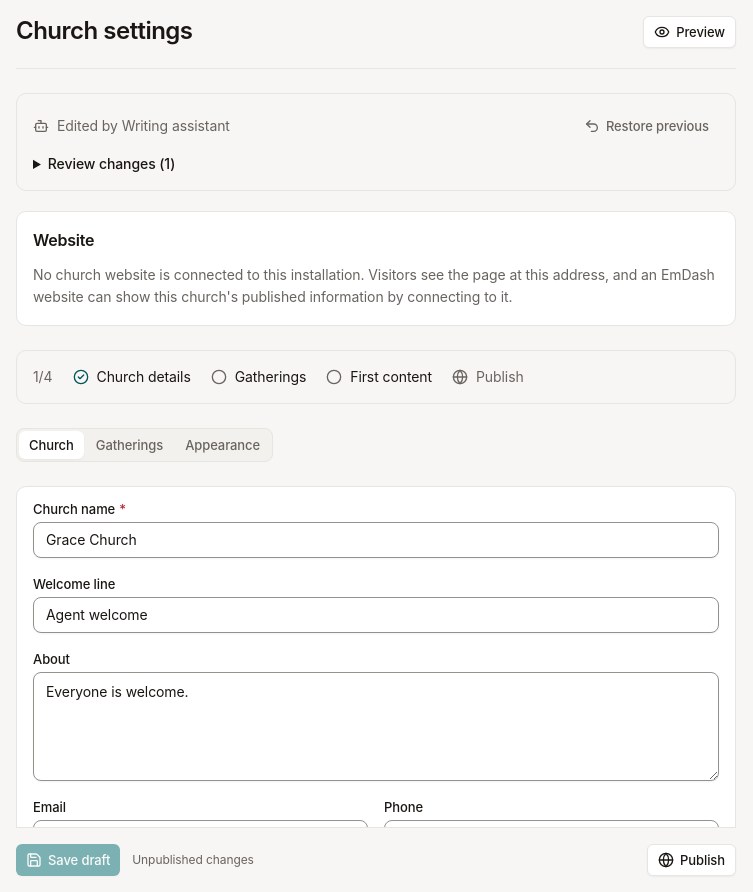
Test: shows agent attribution and reviewed fields and restores only the observed saved version
Click the button "Restore previous".
click(646, 126)  # box [574,110,719,142]
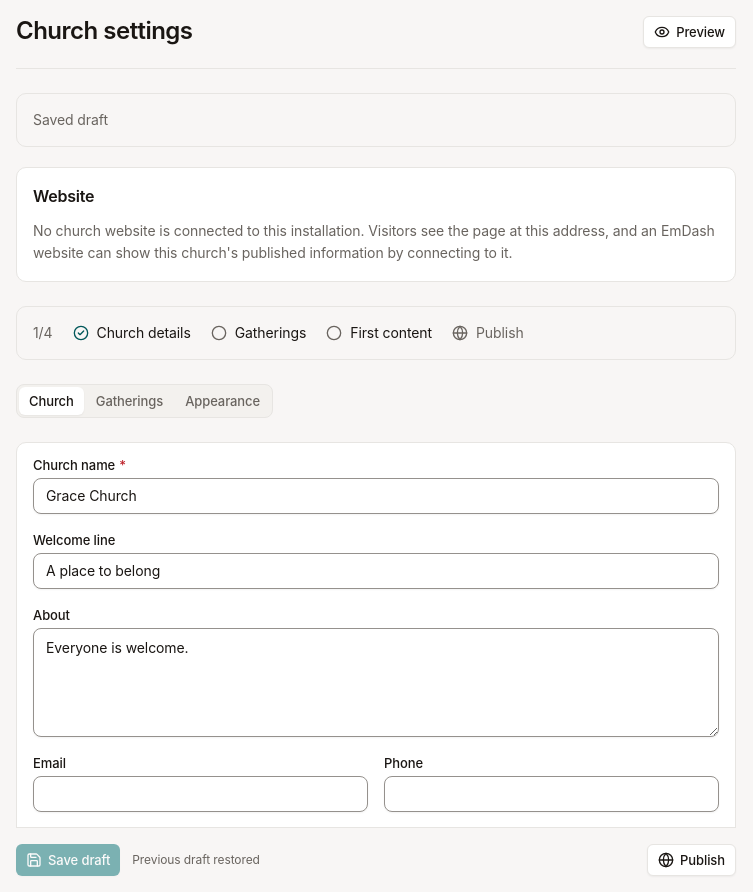
Expected: the message "Previous draft restored" is shown, [132,852,260,868]
